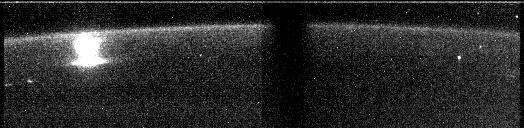positive: (71, 32, 105, 59)
